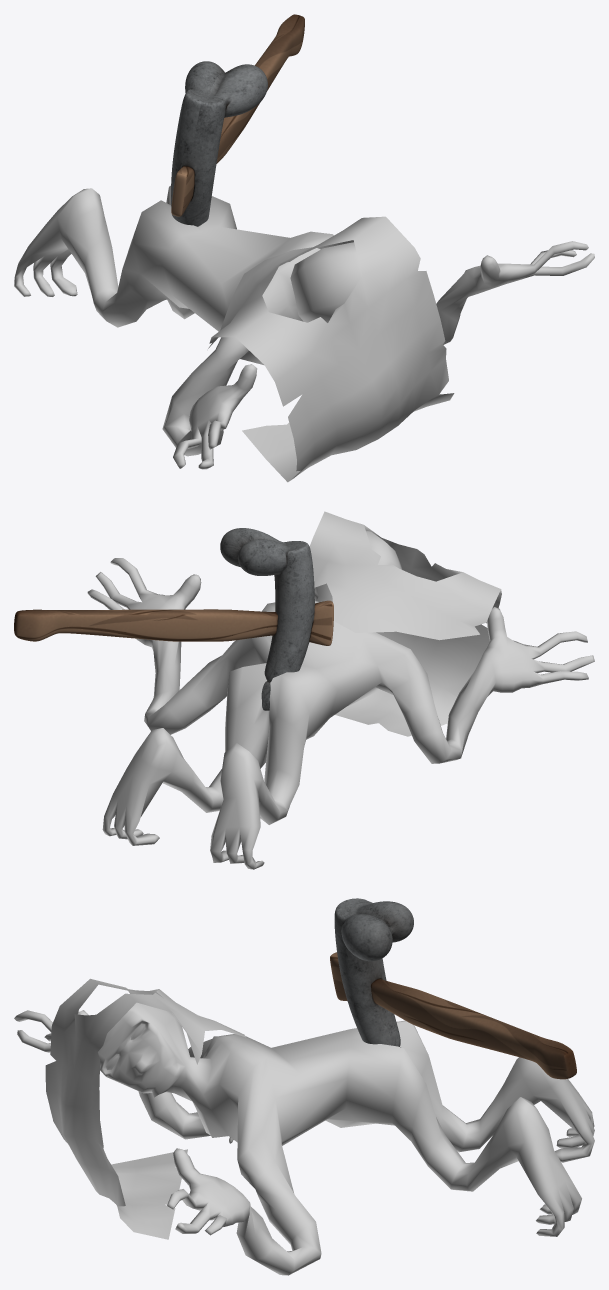
The model's file is SM_ClientDead_002.FBX.
The picture shows the model from 3 angles, top to bottom: view 1: azimuth 30°, elevation 25°; view 2: azimuth 150°, elevation 25°; view 3: azimuth 270°, elevation 25°; orthographic projection. The views are drawn at different scales.
Parts seen in each view (by area): view 1: SM_ClientDead_002; view 2: SM_ClientDead_002; view 3: SM_ClientDead_002.
Boxes of the visible parts, x1,y1,x2,y2 form: SM_ClientDead_002: (14, 14, 594, 482); SM_ClientDead_002: (14, 511, 594, 869); SM_ClientDead_002: (14, 898, 594, 1275).
Bounding box in the file's own units: 2011 × 1170 × 2082.
